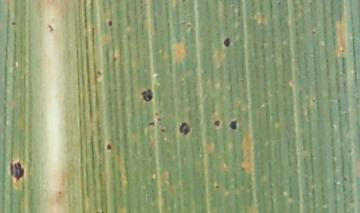tarspot: (9, 160, 25, 181), (178, 121, 191, 136), (141, 87, 153, 102), (229, 118, 239, 132), (46, 22, 55, 33), (104, 142, 113, 152), (213, 118, 221, 128), (185, 20, 193, 30), (106, 19, 115, 27), (95, 67, 103, 76), (111, 54, 119, 63), (309, 28, 317, 36), (340, 175, 348, 183), (224, 38, 231, 47), (212, 183, 221, 190), (160, 126, 167, 134), (56, 188, 63, 196), (147, 121, 155, 127), (152, 111, 160, 117), (11, 19, 17, 26), (157, 116, 163, 123), (310, 97, 316, 104)
